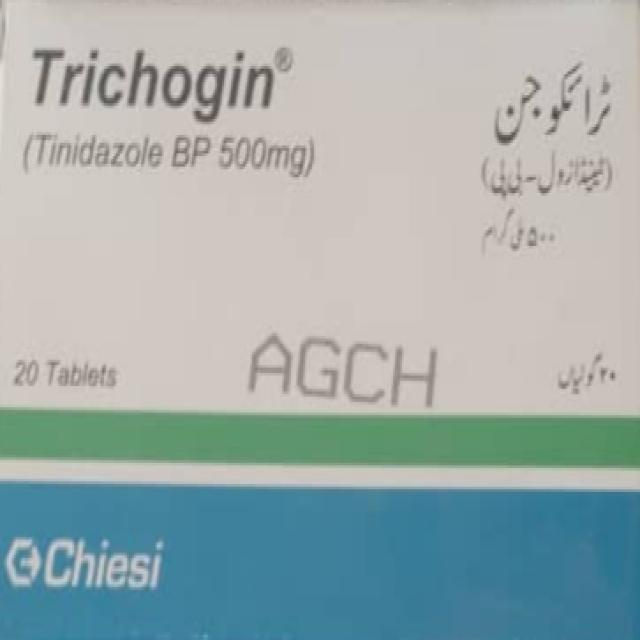drug-name: (27, 40, 278, 126)
